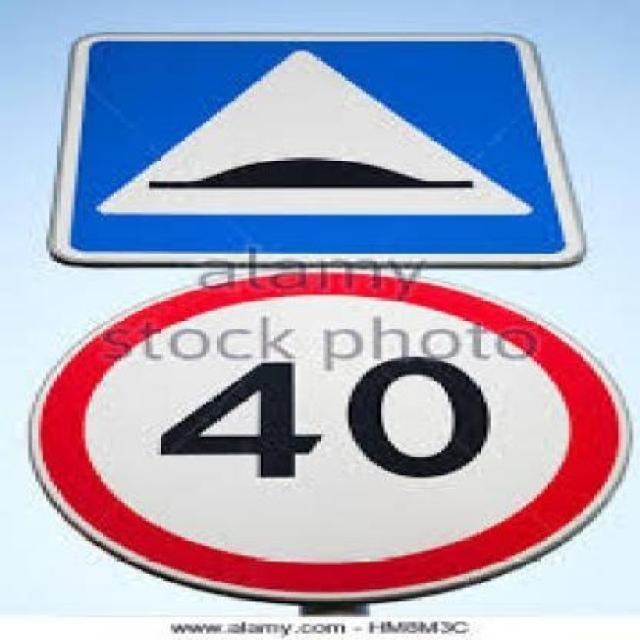forb_speed_over_40: (52, 276, 632, 590)
